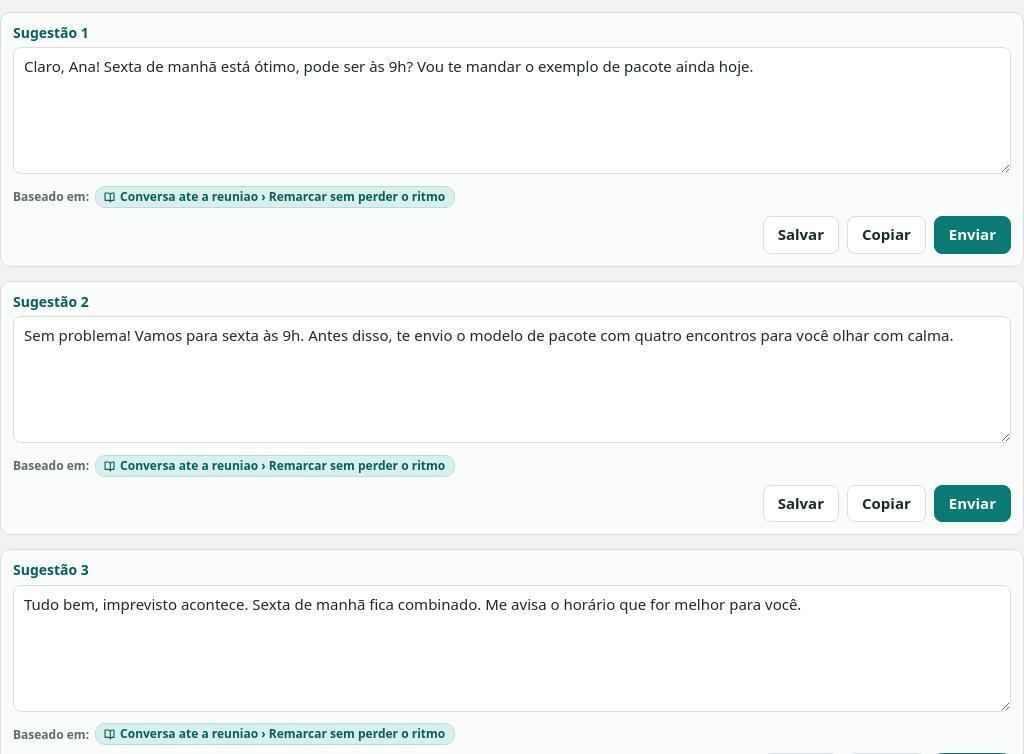
it: Horário de envio: confirmação › desmarcar "Forçar envio" volta a desligar o Enviar
The width and height of the screenshot is (1024, 754).
Click the 1st button "Enviar": (972, 235) [934,216,1011,254]
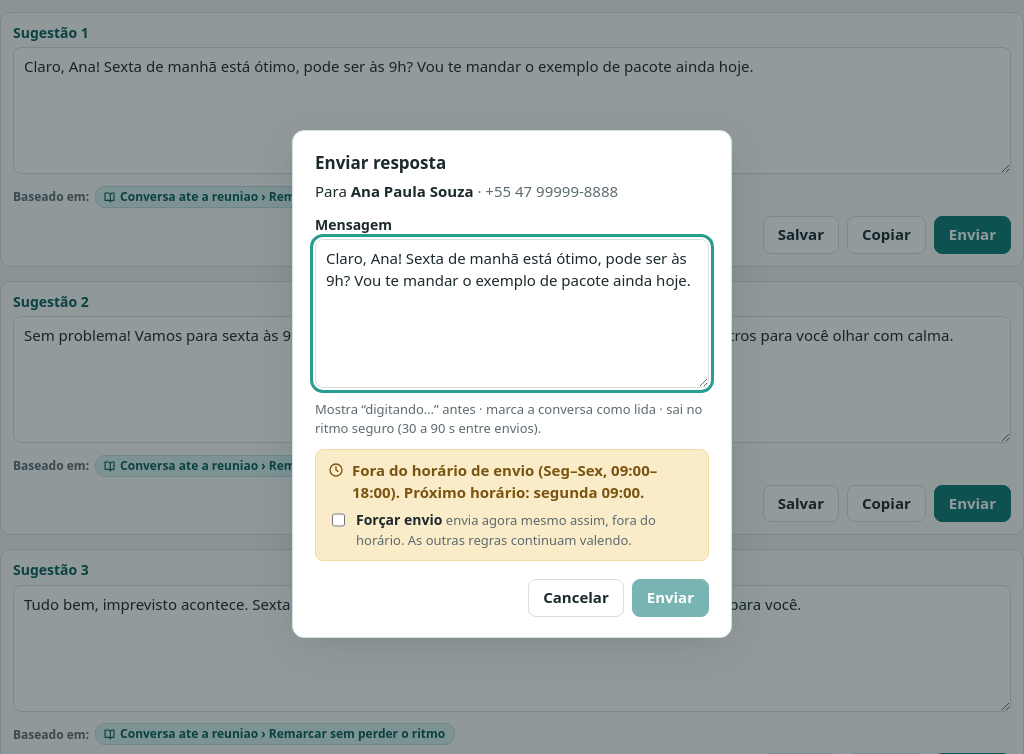
Click the checkbox labelled "Forçar envio": (338, 520) [332,511,345,529]
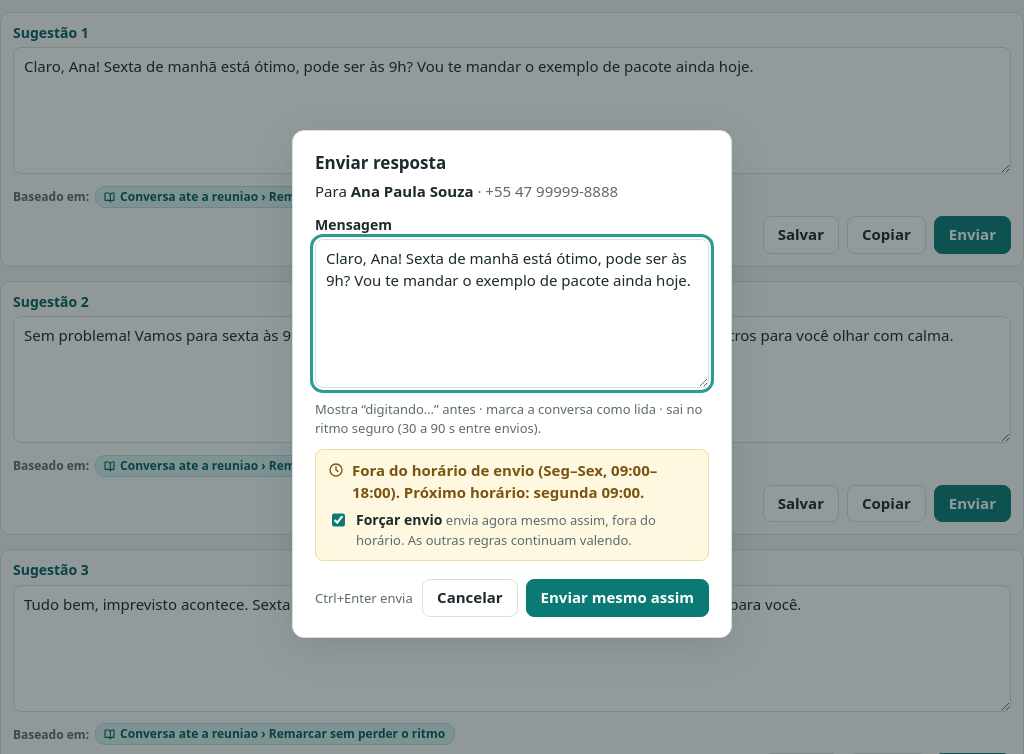
Check: the button "Enviar mesmo assim" is shown, box [526,580,709,617]
Click the checkbox labelled "Forçar envio": (338, 520) [332,511,345,529]
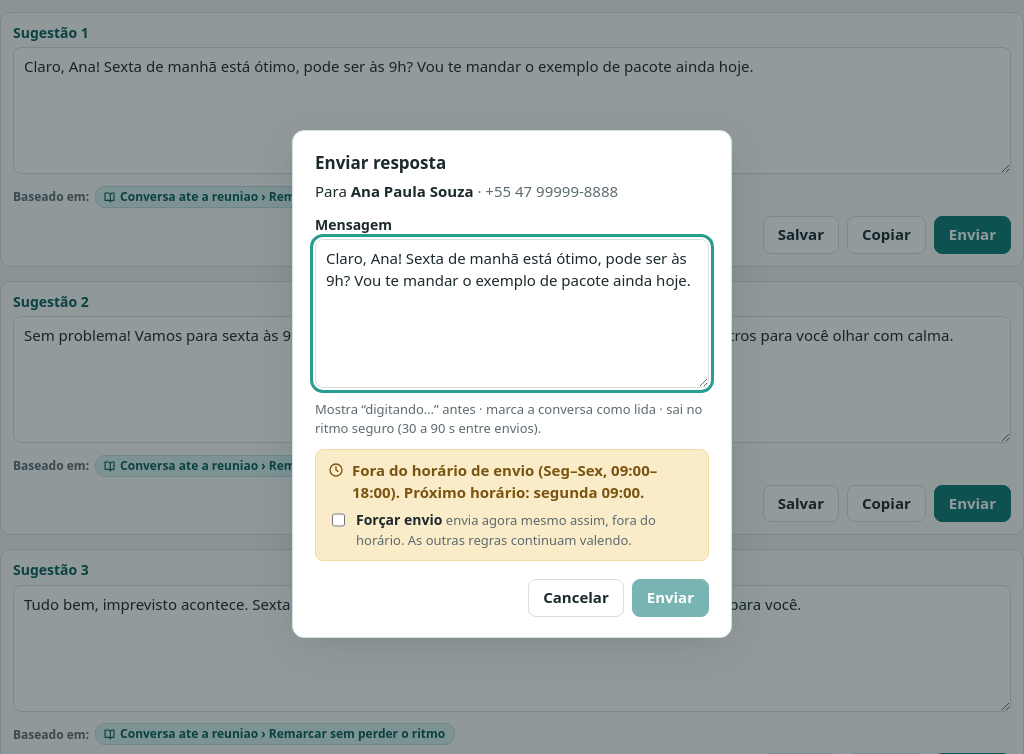
Check: the button "Enviar" is disabled, box [632,580,709,617]
